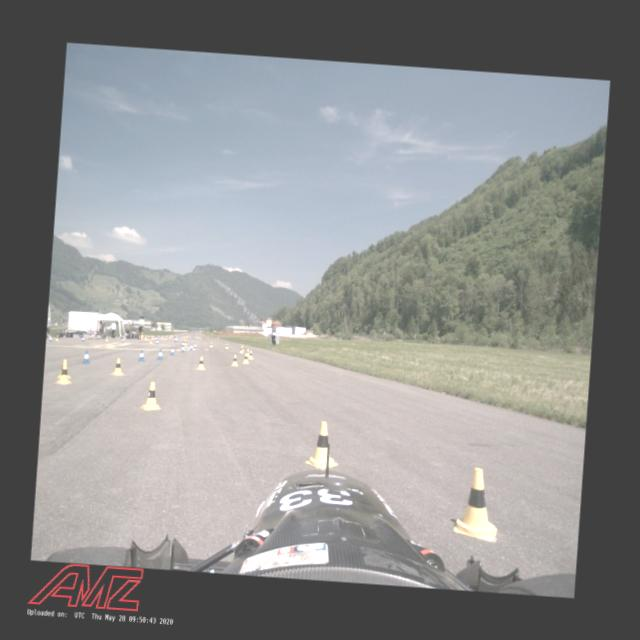blue_cone: (81, 350, 91, 364), (136, 349, 146, 362), (156, 349, 163, 360), (169, 346, 175, 355), (180, 344, 185, 352), (189, 344, 193, 351), (80, 335, 84, 342), (48, 336, 52, 342), (181, 341, 184, 347), (193, 342, 196, 348), (156, 338, 158, 344), (121, 338, 124, 342), (174, 336, 176, 342), (176, 336, 178, 341)
yellow_cone: (452, 466, 500, 542), (304, 420, 340, 470), (140, 381, 162, 411), (54, 361, 72, 385), (56, 360, 72, 380), (112, 358, 125, 376), (196, 356, 205, 370), (230, 354, 238, 366), (242, 352, 250, 363), (248, 350, 254, 359), (245, 348, 250, 356), (54, 334, 59, 340), (238, 346, 242, 353), (240, 345, 244, 351), (149, 337, 152, 343), (105, 335, 108, 341), (225, 344, 228, 348), (210, 342, 212, 348), (184, 340, 186, 344)
